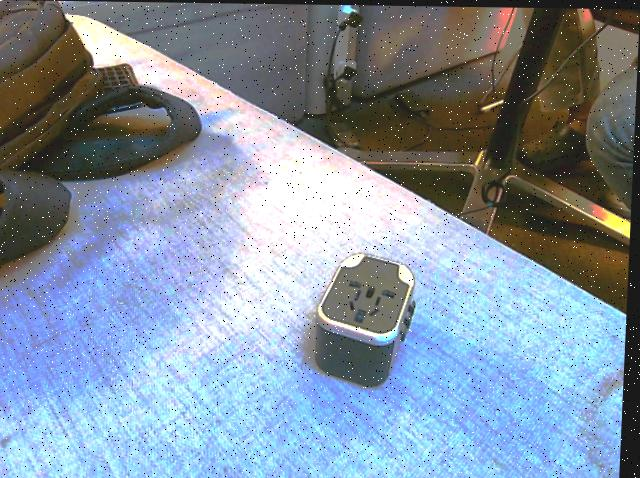adapter: (314, 250, 420, 386)
